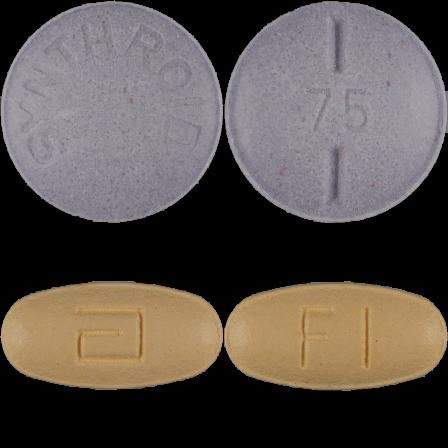0074-5182: (0, 0, 224, 224)
